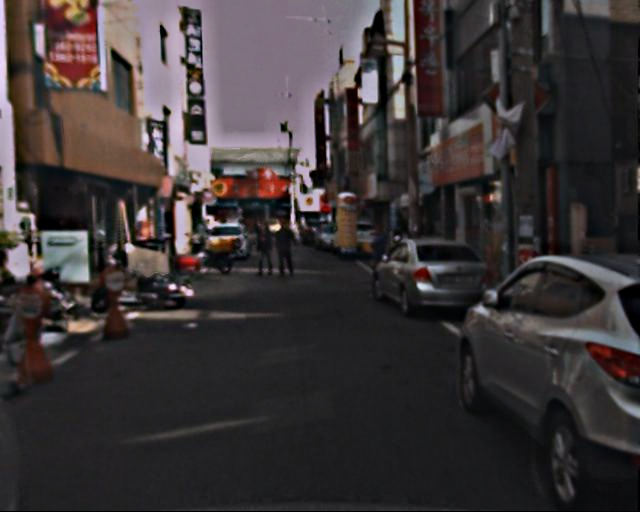person: (273, 215, 300, 285), (369, 217, 394, 289), (257, 216, 279, 277)
